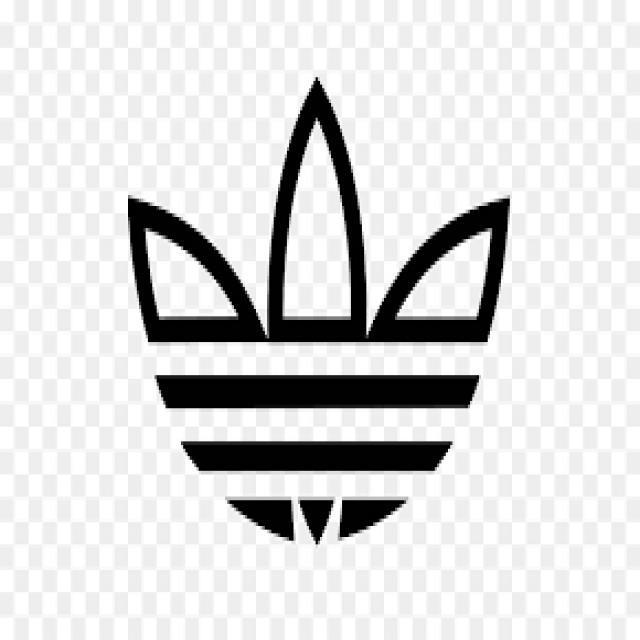Adidas: (124, 70, 514, 552)
